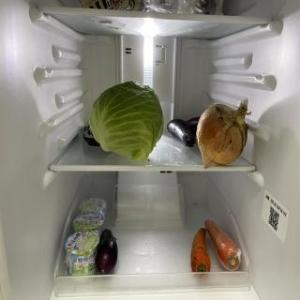cabbage: (90, 80, 164, 162)
carrot: (205, 218, 243, 270), (190, 228, 212, 276)
eggplant: (97, 228, 119, 276), (168, 118, 195, 146), (186, 116, 200, 130)
onion: (196, 102, 250, 168)
